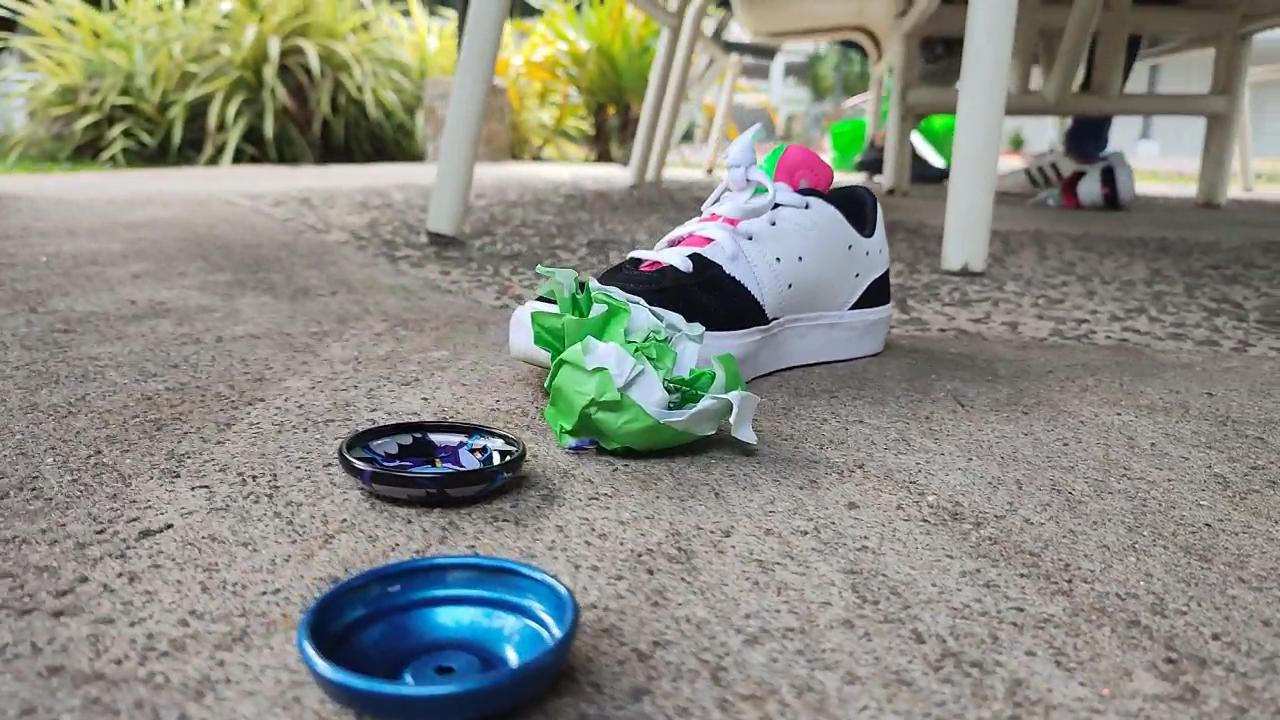Paper: (522, 245, 771, 466)
